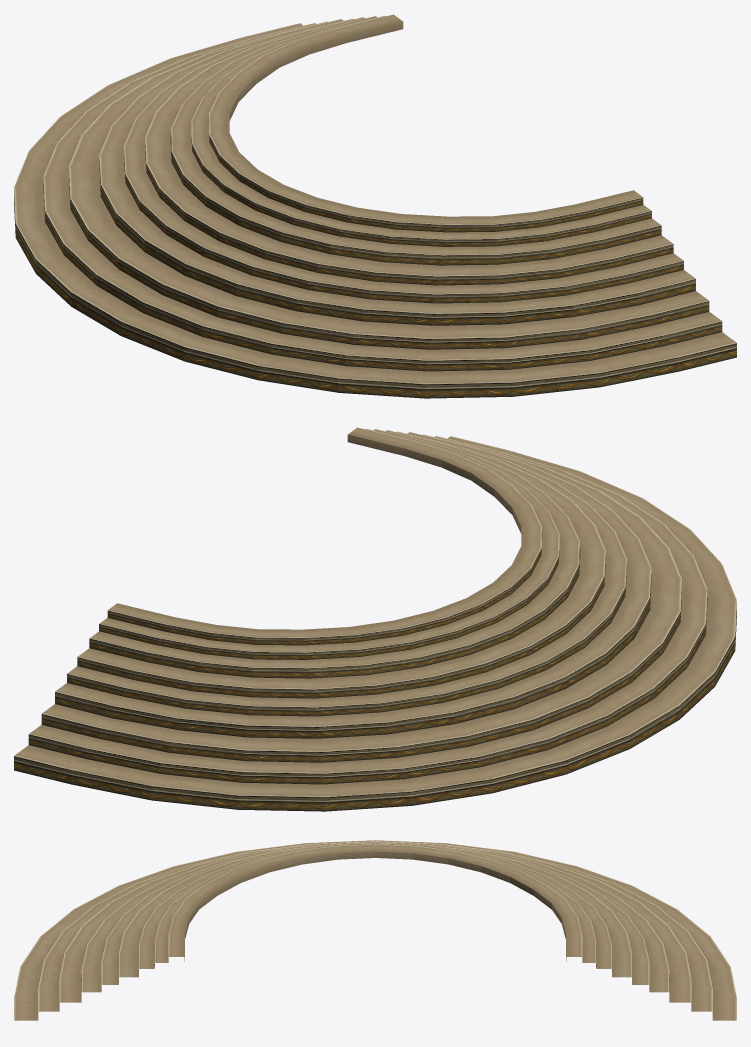
The model's file is Floor02_Build_LostTemple_005.FBX.
3 views of the same model, one above another, from view 1: azimuth 30°, elevation 25°; view 2: azimuth 150°, elevation 25°; view 3: azimuth 270°, elevation 25° (orthographic). The views are drawn at different scales.
Parts seen in each view (by area): view 1: Floor02_Build_LostTemple_005; view 2: Floor02_Build_LostTemple_005; view 3: Floor02_Build_LostTemple_005.
Part boxes in pixels (box(x1,y1,x2,y2)): Floor02_Build_LostTemple_005: box(14, 14, 736, 398); Floor02_Build_LostTemple_005: box(14, 427, 736, 811); Floor02_Build_LostTemple_005: box(14, 840, 736, 1020).
Size of the model in its own units: 987 by 193 by 1670.
